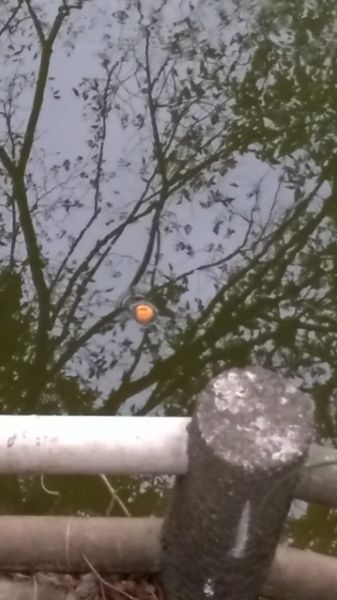eggs: (132, 300, 157, 327)
